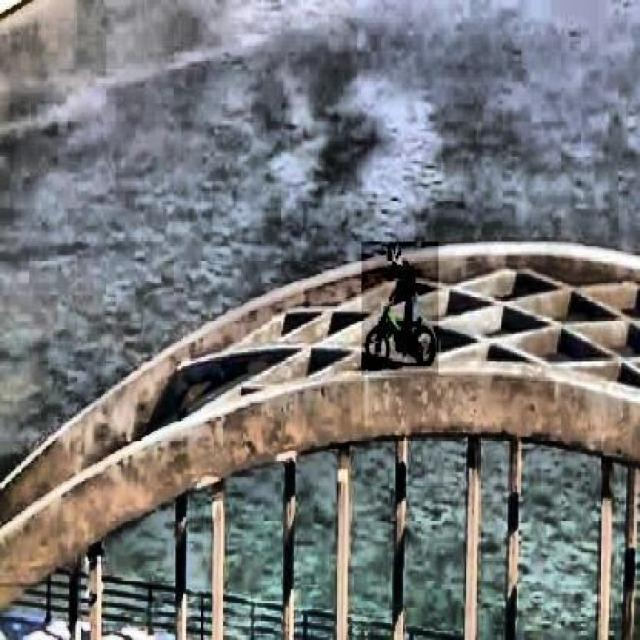bikerider: (363, 242, 440, 376)
